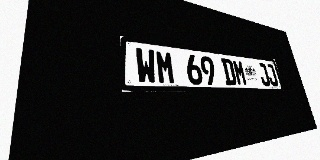6: (185, 54, 204, 85)
9: (199, 55, 217, 85)
D: (221, 58, 237, 85)
J: (257, 63, 271, 86), (265, 64, 279, 86)
M: (155, 50, 176, 84), (232, 59, 248, 86)
W: (135, 47, 157, 84)
